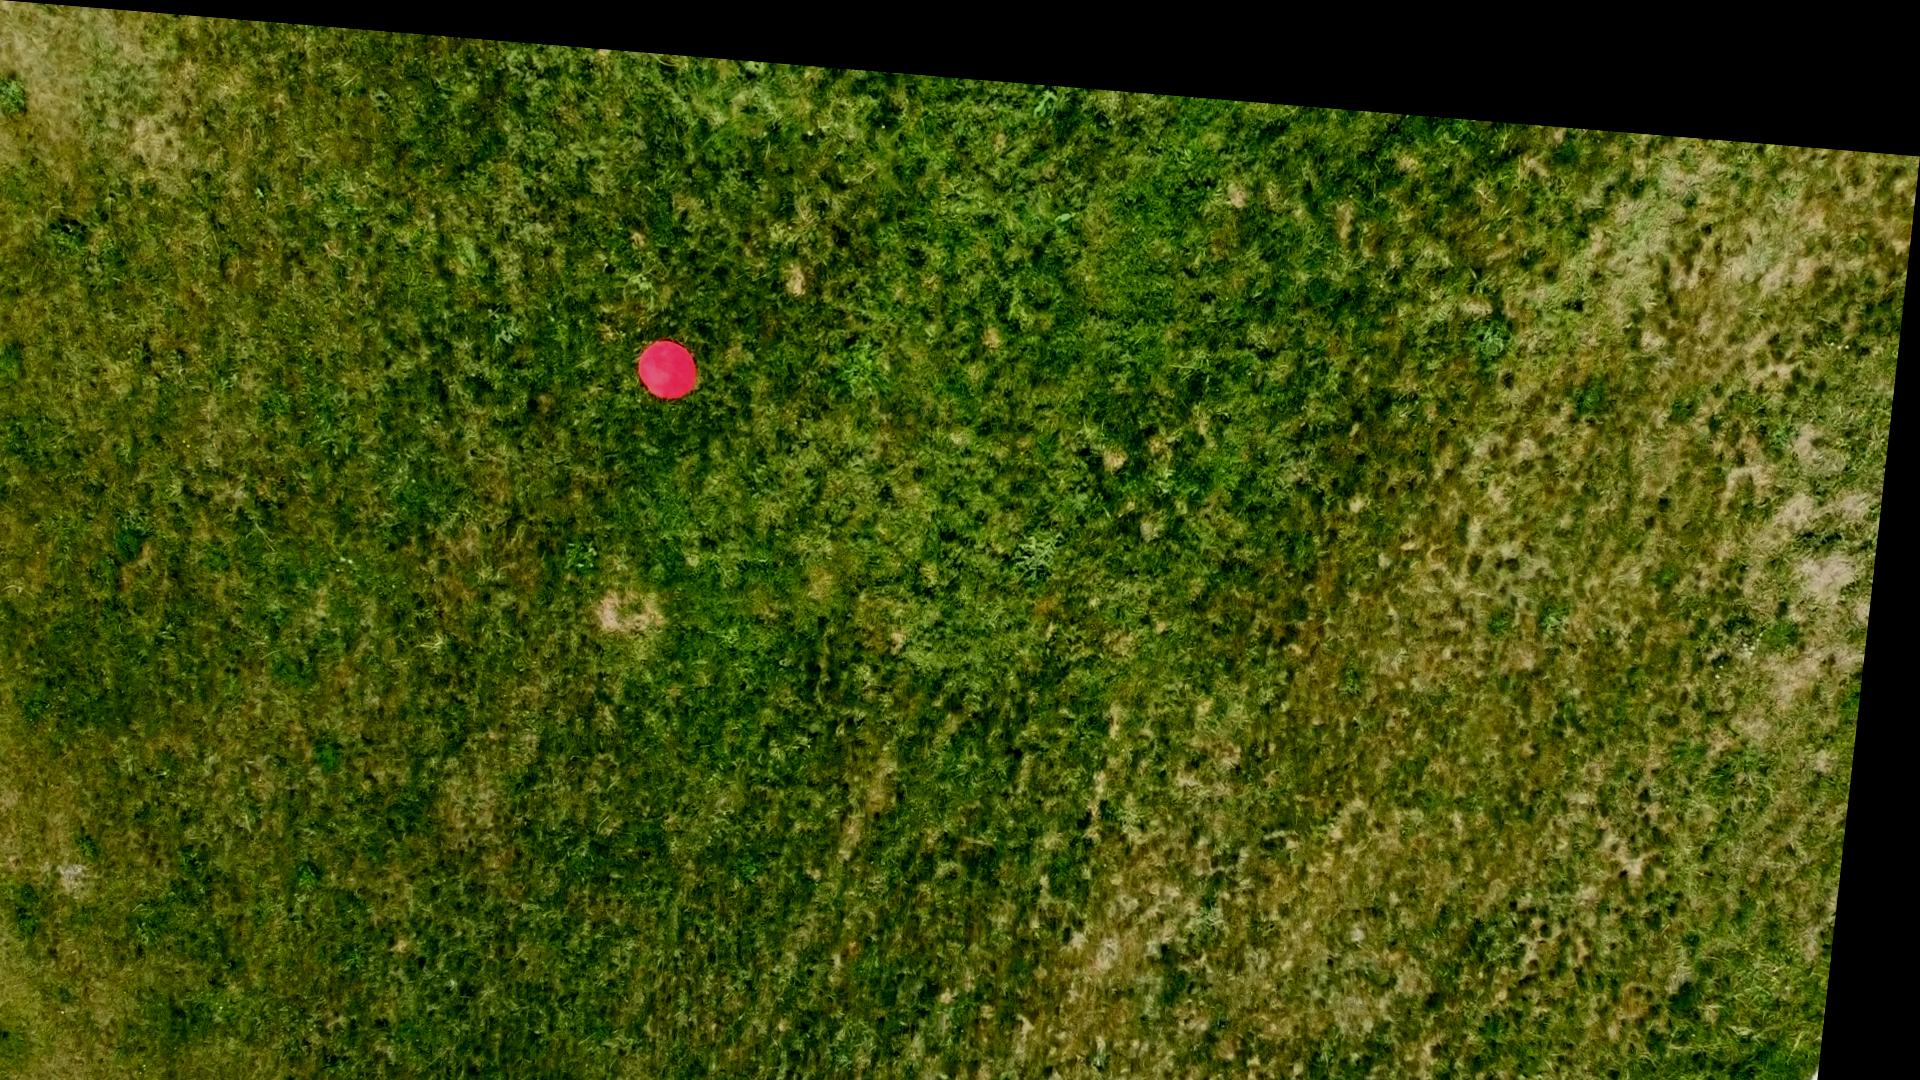Red: (638, 323, 711, 392)
Unknown: (835, 1062, 894, 1080)
